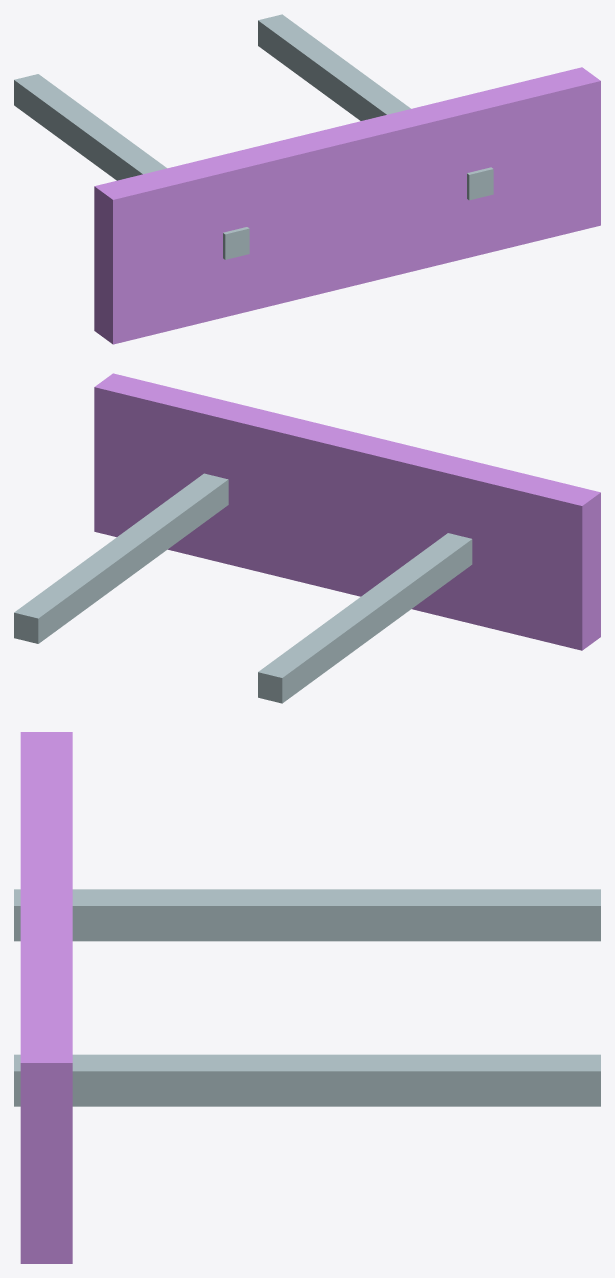
The model's file is iron-board.glb.
The picture shows the model from 3 angles, top to bottom: view 1: azimuth 30°, elevation 25°; view 2: azimuth 150°, elevation 25°; view 3: azimuth 270°, elevation 25°; orthographic projection. The views are drawn at different scales.
Parts seen in each view (by area): view 1: world; view 2: world; view 3: world.
Boxes of the visible parts, box(x1,y1,x2,y2) form: world: box(14, 14, 600, 344); world: box(14, 373, 600, 703); world: box(14, 732, 600, 1263).
Size of the model in its own units: 1.2 by 0.34 by 0.9.
